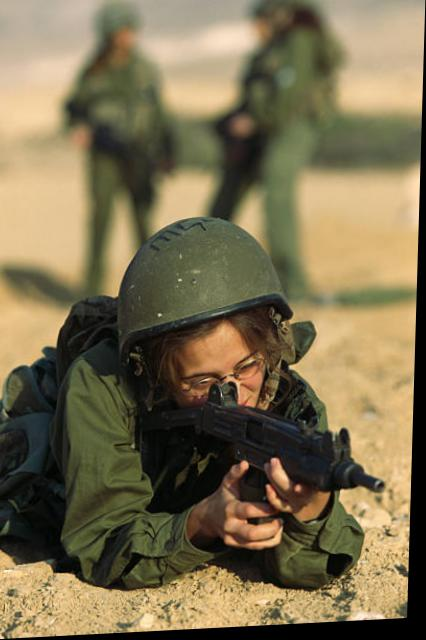other: (25, 221, 352, 607), (69, 0, 161, 287), (225, 0, 322, 249)
